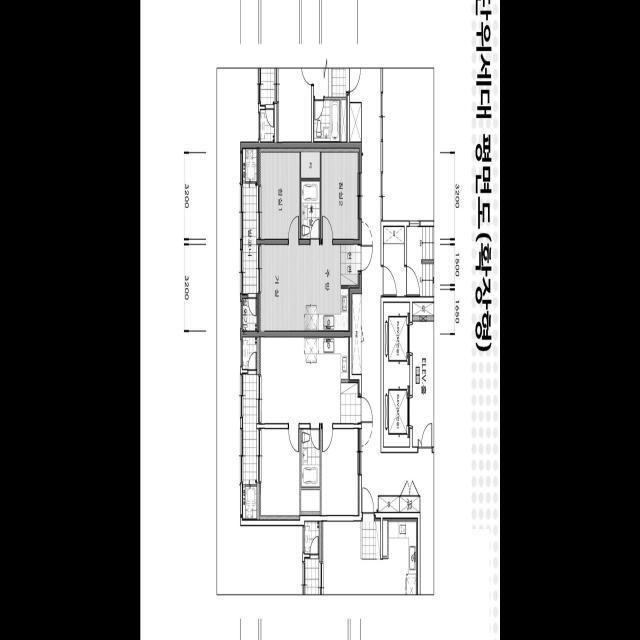background: (140, 0, 500, 640)
space_balconi: (243, 149, 256, 293)
space_bedroom: (259, 148, 299, 239), (321, 149, 359, 239)
space_front: (340, 245, 360, 288)
space_kitchen: (303, 245, 349, 331)
space_living_room: (259, 245, 304, 331)
space_other: (301, 148, 319, 178)
space_outdoor_room: (242, 299, 256, 331)
space_toilet: (301, 181, 320, 239)
